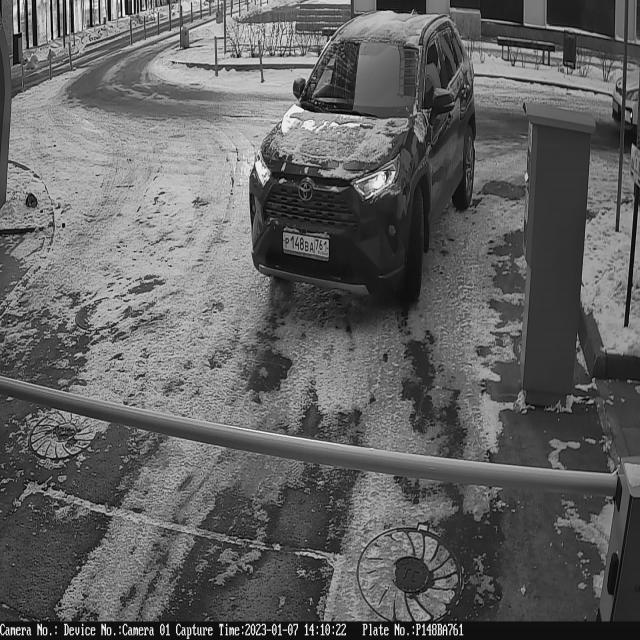car-plate-numbers: (281, 222, 333, 267)
